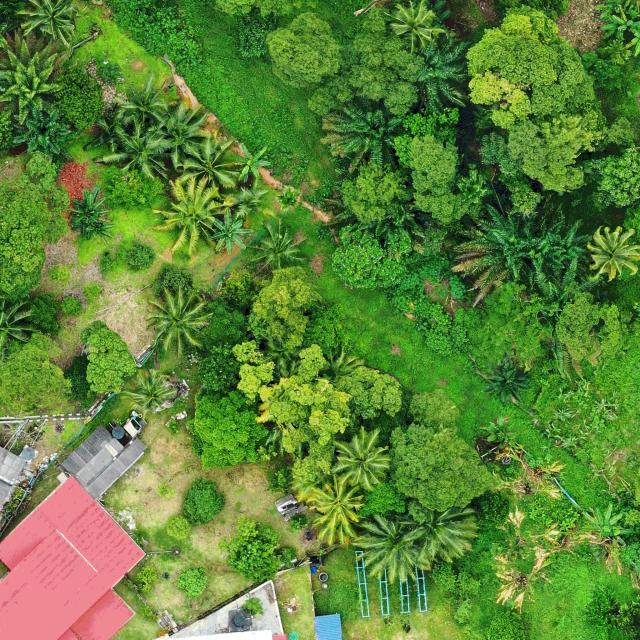0: (321, 92, 407, 174), (452, 201, 528, 288), (0, 36, 64, 125), (156, 176, 224, 258), (401, 497, 481, 565), (414, 28, 474, 118), (352, 513, 419, 588), (144, 285, 212, 357), (146, 100, 212, 170), (102, 118, 168, 182), (310, 475, 366, 550), (332, 424, 393, 490), (112, 72, 178, 126), (181, 134, 241, 193), (386, 0, 449, 52), (11, 104, 71, 157), (586, 224, 640, 282), (15, 0, 76, 49), (254, 216, 307, 272), (120, 368, 176, 412), (483, 361, 533, 404), (0, 295, 33, 354), (124, 242, 156, 272)
banana_tree2: (69, 188, 115, 248), (209, 208, 251, 256), (582, 503, 633, 541), (236, 142, 271, 182), (602, 4, 630, 42), (594, 0, 628, 20), (624, 19, 640, 57)
tree: (466, 4, 598, 130), (305, 6, 422, 118), (255, 374, 353, 480), (390, 423, 495, 512), (506, 108, 609, 192), (474, 280, 564, 362), (393, 132, 472, 225), (185, 390, 272, 470), (246, 264, 323, 348), (0, 331, 73, 417), (266, 11, 344, 91), (330, 224, 414, 292), (554, 289, 624, 361), (79, 318, 138, 395), (225, 515, 284, 583), (340, 162, 402, 224), (338, 364, 404, 420), (198, 295, 246, 352), (181, 476, 226, 526), (193, 344, 240, 391), (408, 388, 458, 430), (29, 292, 60, 336), (176, 565, 208, 598), (429, 561, 457, 592), (134, 564, 160, 592), (165, 514, 192, 539)
